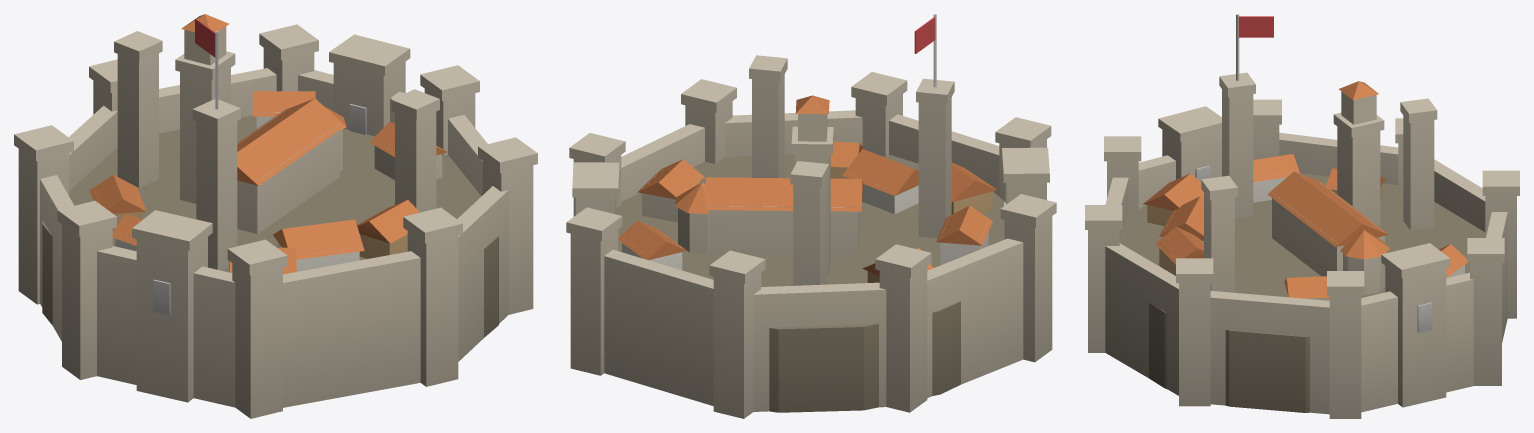
File: town_med_a.glb
3 views of the same model, side by side, from view 1: azimuth 30°, elevation 25°; view 2: azimuth 150°, elevation 25°; view 3: azimuth 270°, elevation 25° (orthographic). The views are drawn at different scales.
Visible parts, largest first — view 1: town_med_a; view 2: town_med_a; view 3: town_med_a.
Boxes of the visible parts, bbox=[...] form: town_med_a: bbox=[14, 14, 537, 418]; town_med_a: bbox=[566, 14, 1056, 418]; town_med_a: bbox=[1085, 14, 1519, 418].
Bounding box in the file's own units: 1.96 × 1.33 × 1.92.
